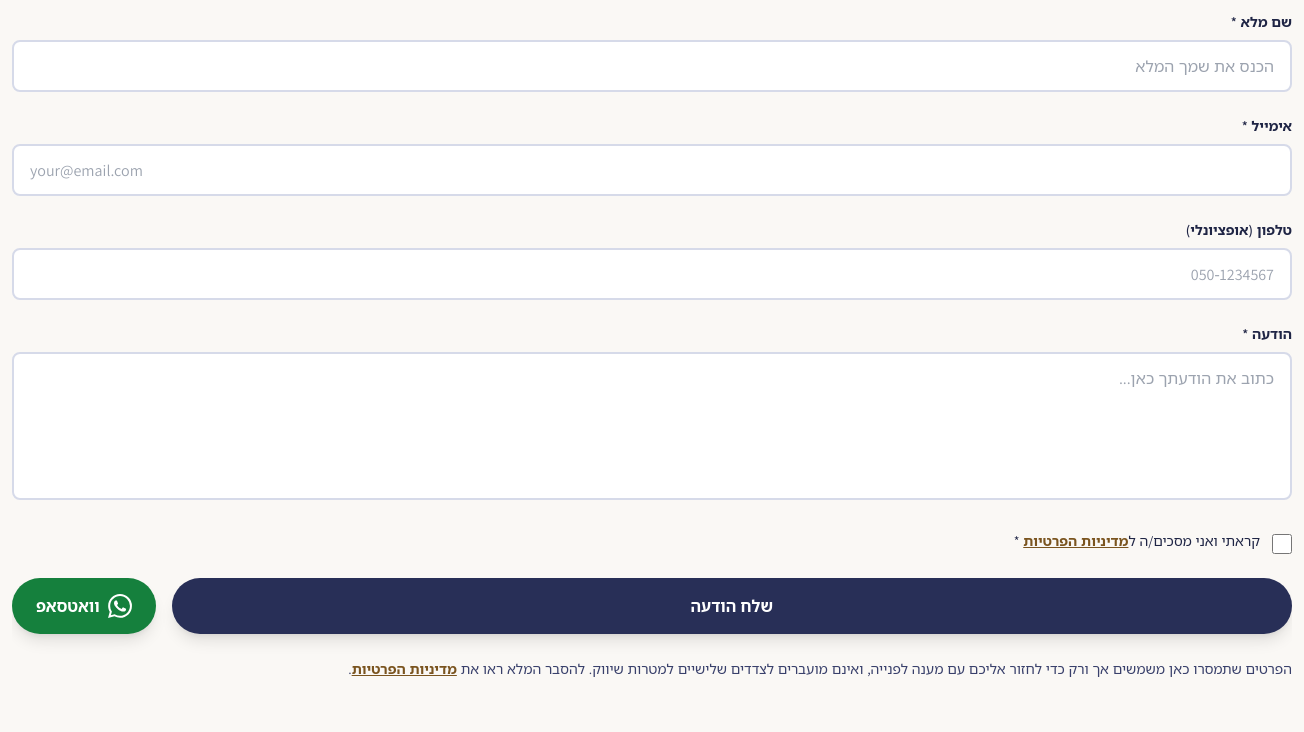
Test: ContactForm Component › blocks submission and shows an error when consent is not given
In the field labelled "שם מלא *": (652, 66) [12,40,1292,92], type "דני כהן"
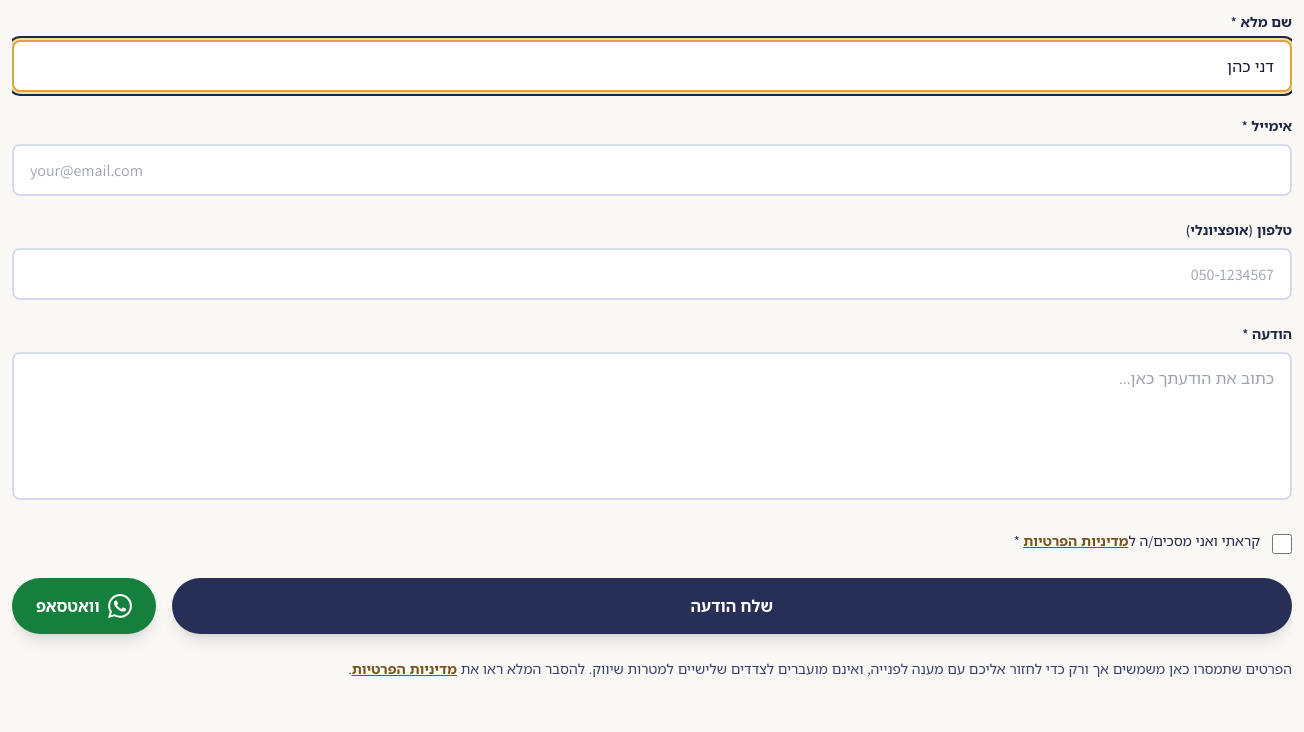
In the field labelled "אימייל *": (652, 170) [12,144,1292,196], type "test@example.com"
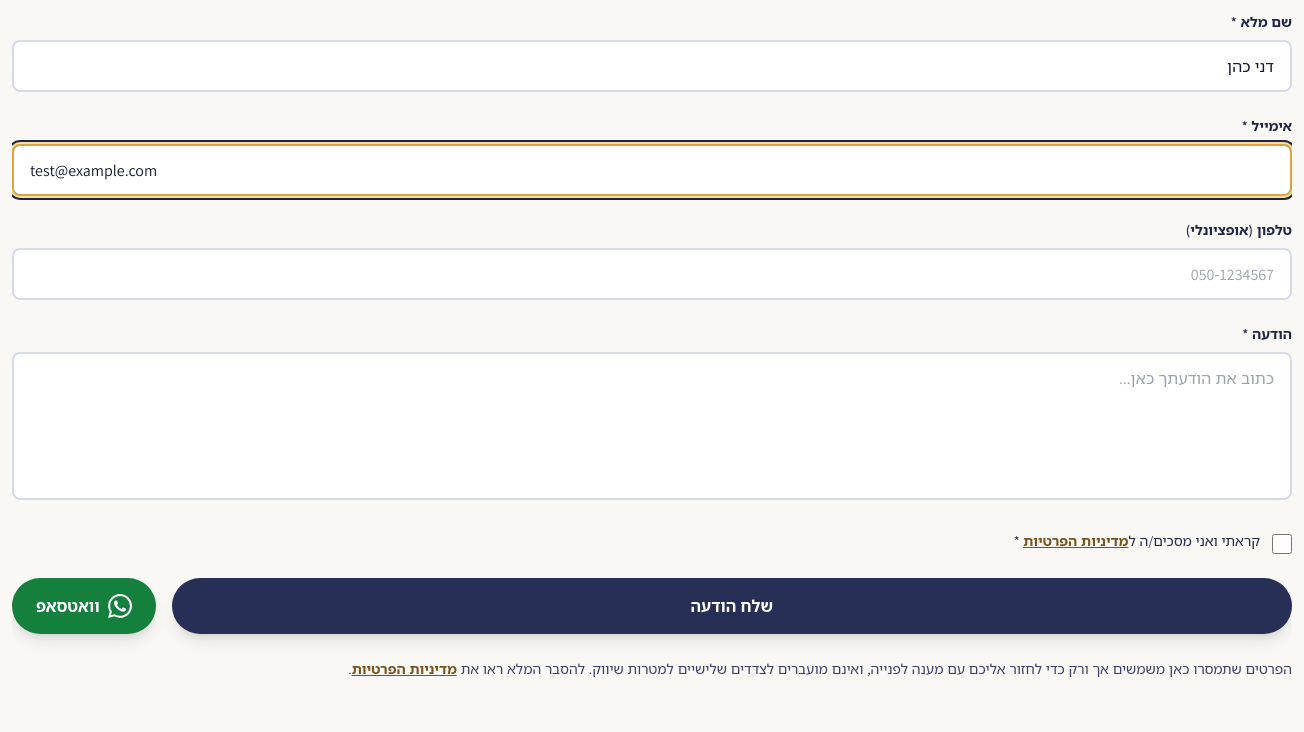
In the text box labelled "הודעה *": (652, 426) [12,352,1292,500], type "זוהי הודעת בדיקה ארוכה"
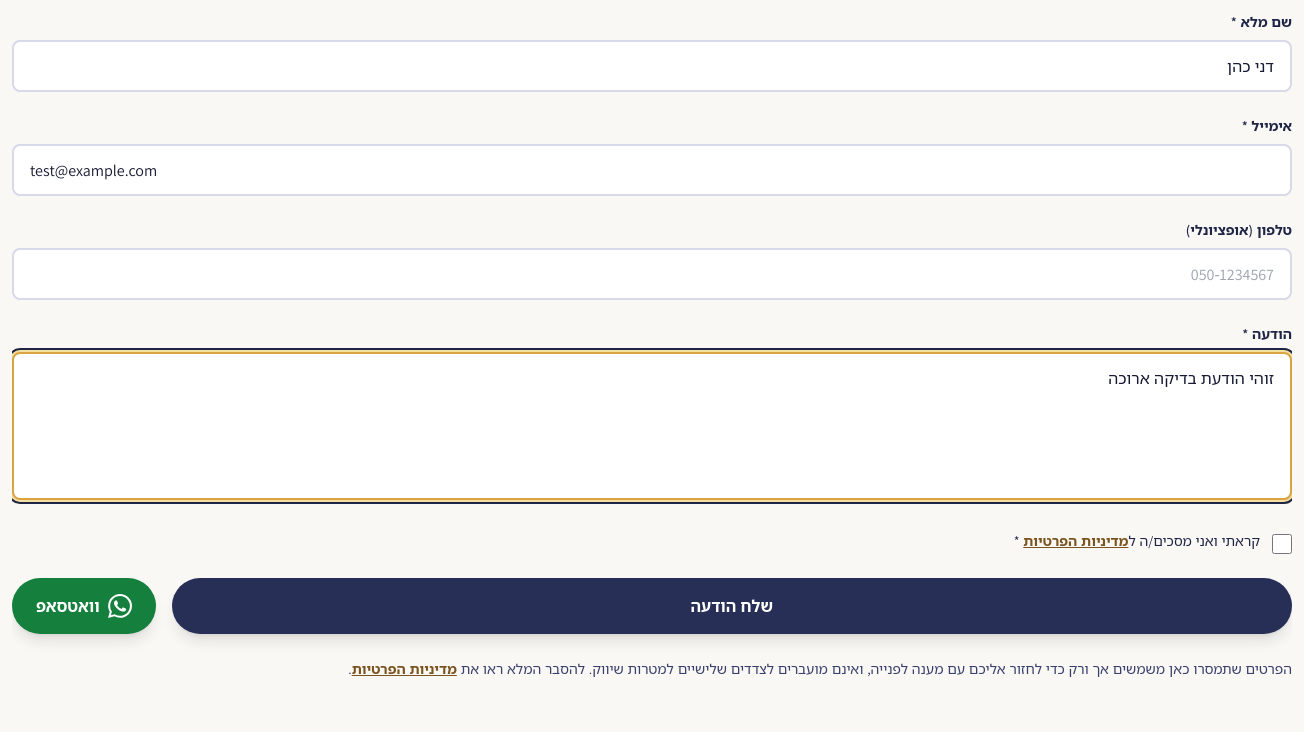
Click the button "שלח הודעה": (732, 606) [172,578,1292,634]
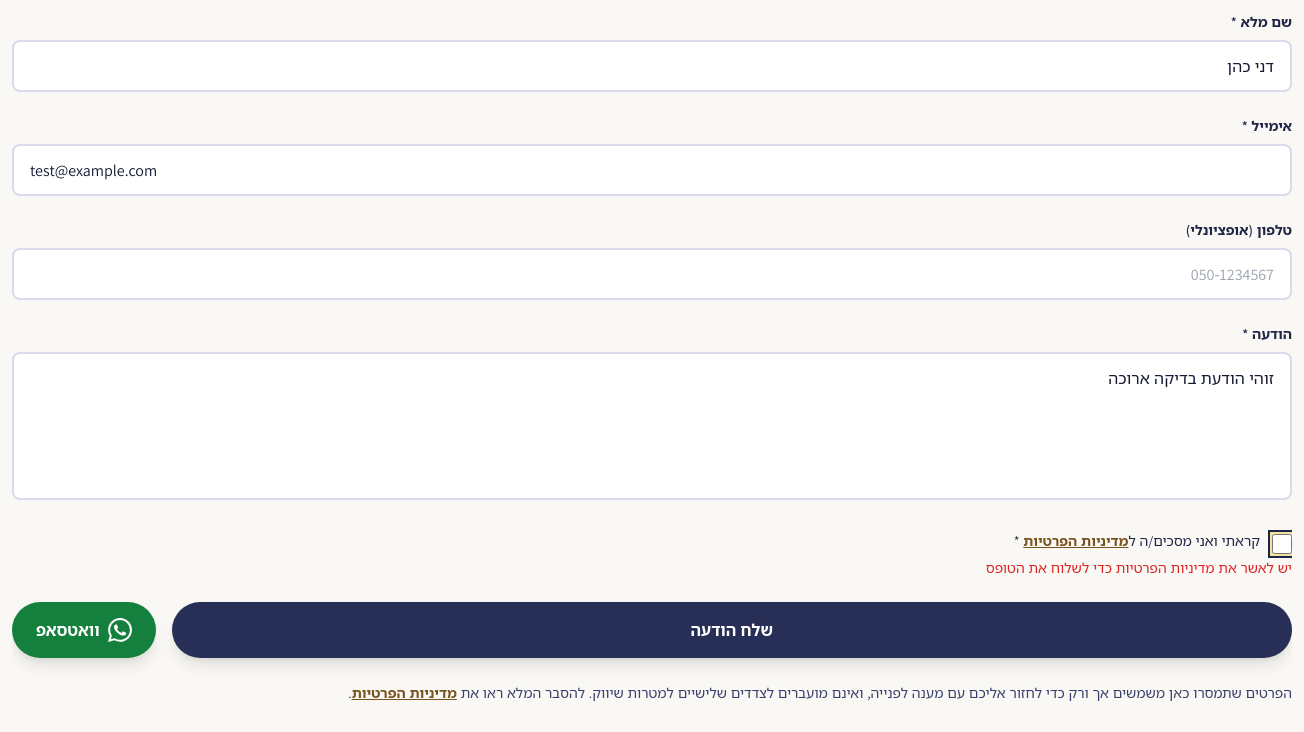
Result: the text "יש לאשר את מדיניות הפרטיות כדי לשלוח את הטופס" is shown at [986,558,1292,577]
